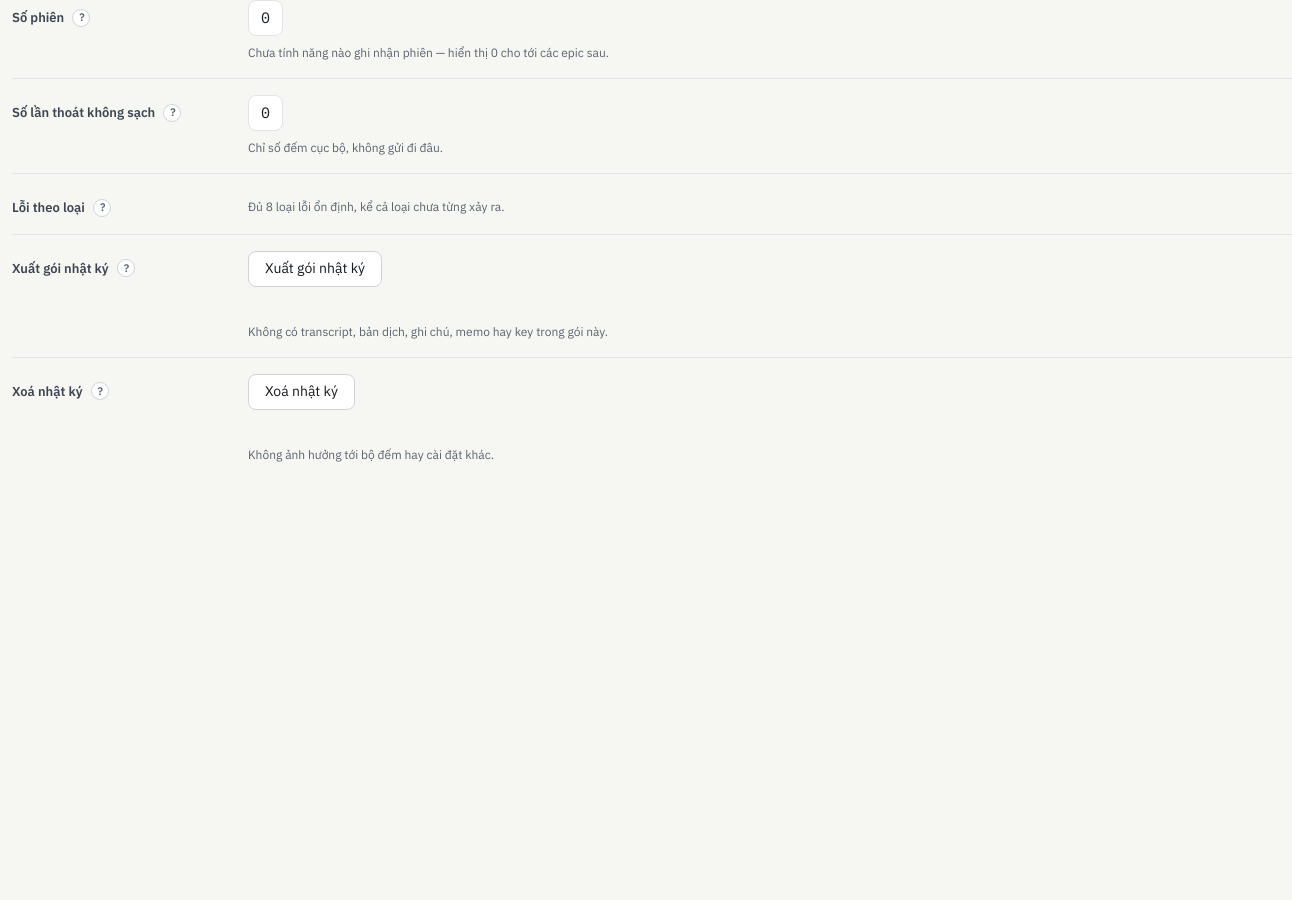
SettingsDiagnostics › shows a cancelled status (not an error) when the dialog is dismissed
Click the button "Xuất gói nhật ký": (315, 268) [248, 250, 382, 286]
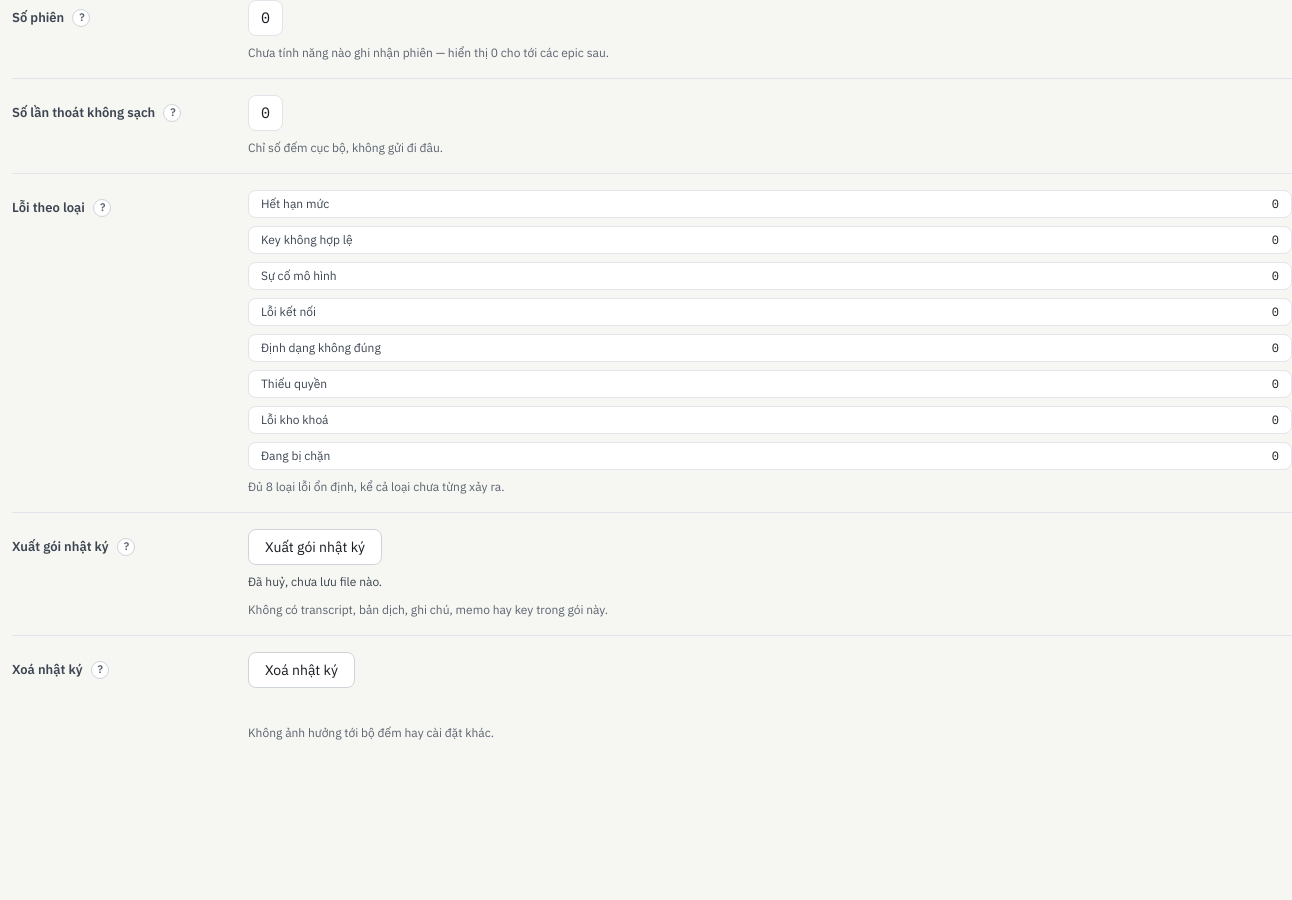
Expected: the text "Đã huỷ, chưa lưu file nào." is shown, [248, 574, 382, 589]
